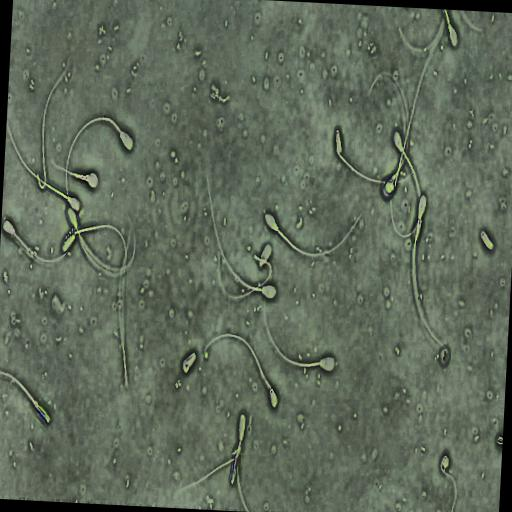folded-tail: (336, 131, 412, 184), (390, 199, 420, 237)
loose-head: (256, 240, 273, 273), (180, 350, 197, 376)
loose-tail: (35, 65, 68, 191), (217, 247, 273, 300)
normal: (203, 165, 280, 303), (198, 327, 283, 417), (7, 120, 85, 215), (62, 113, 139, 198), (324, 118, 412, 191), (261, 300, 342, 379), (263, 205, 367, 266), (63, 201, 138, 280), (412, 193, 446, 350), (1, 212, 78, 270), (391, 129, 421, 259), (0, 368, 52, 427), (59, 221, 127, 257), (48, 154, 103, 196), (388, 196, 423, 245), (235, 409, 250, 512)
